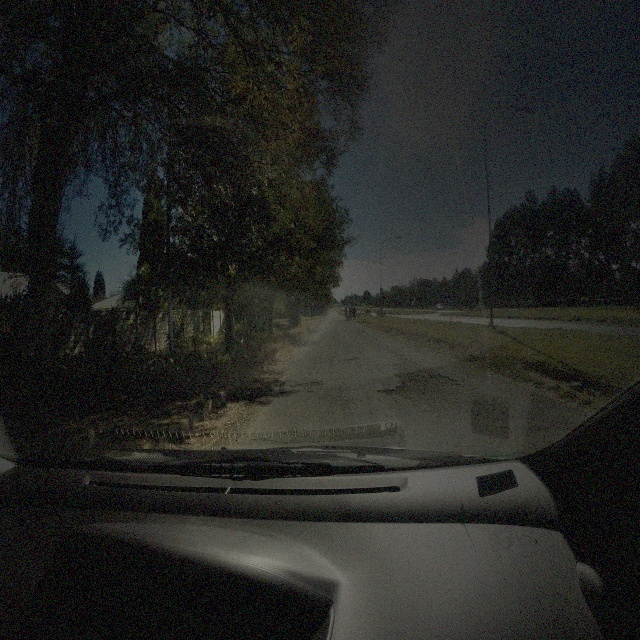pothole: (377, 363, 455, 411), (294, 380, 323, 389), (344, 355, 360, 364)
